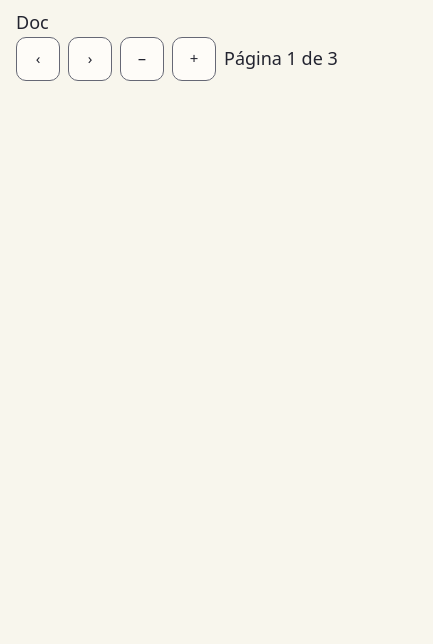
it: el canvas del PDF se ajusta al ancho del contenedor y el zoom permite paneo
The image size is (433, 644).
Expected: the text "Página 1 de 3" is shown, [224,45,338,73]
Expected: the element named "Página 1 de 3" is shown, [16,81,336,519]
Click the button named "Acercar" at {"x": 194, "y": 59}, box [172,37,216,81]
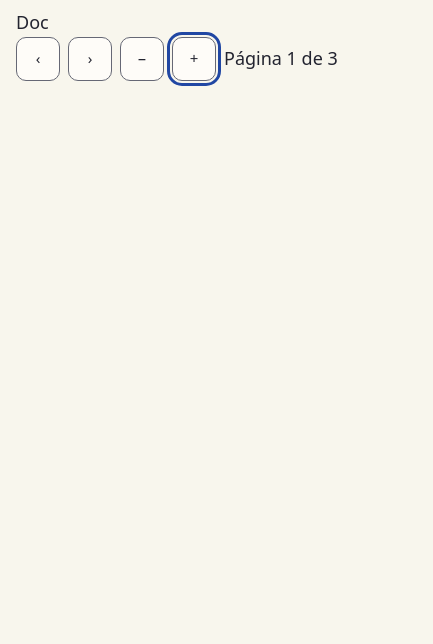
Expected: the picture named "Página 1 de 3" does not have class "is-fit"
